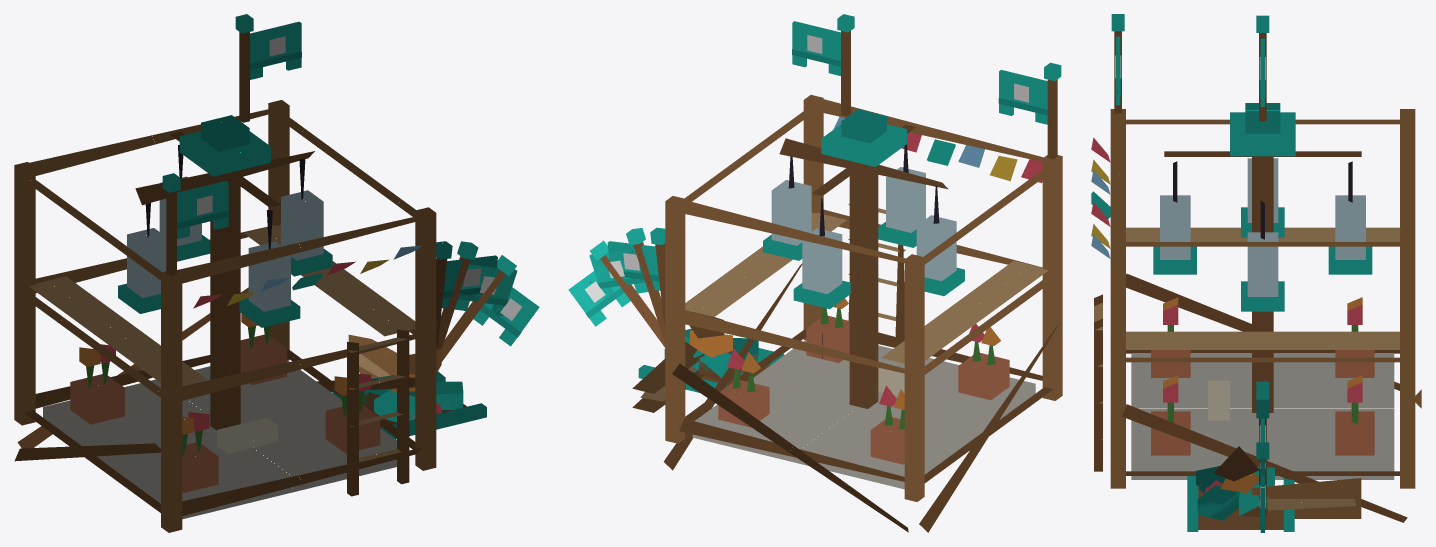
File: hummingbird-producer_lod1.glb
3 views of the same model, side by side, from view 1: azimuth 30°, elevation 25°; view 2: azimuth 150°, elevation 25°; view 3: azimuth 270°, elevation 25° (orthographic). The views are drawn at different scales.
Parts seen in each view (by area): view 1: scaffold-mesh, built-mesh, dismantle-75-mesh, dismantle-50-mesh, dismantle-25-mesh, scaffold-banner, banner, dismantle-25-banner, dismantle-50-banner, dismantle-75-banner, flag-pole, dismantle-25-flag-pole (+3 smaller); view 2: scaffold-mesh, built-mesh, dismantle-75-mesh, dismantle-50-mesh, dismantle-25-mesh, scaffold-banner, banner, dismantle-25-banner, dismantle-75-banner, dismantle-25-flag-pole, scaffold-flag-pole, flag-pole (+3 smaller); view 3: scaffold-mesh, built-mesh, dismantle-75-mesh, dismantle-25-mesh, dismantle-50-mesh, flag-pole, scaffold-flag-pole, scaffold-banner, banner.
Part boxes in pixels (box(x1,y1,x2,y2)): scaffold-mesh: box(14, 100, 436, 532); built-mesh: box(43, 115, 380, 503); dismantle-75-mesh: box(127, 197, 445, 518); dismantle-50-mesh: box(86, 326, 486, 518); dismantle-25-mesh: box(91, 349, 484, 519); scaffold-banner: box(177, 180, 228, 238); banner: box(250, 21, 301, 79); dismantle-25-banner: box(473, 287, 539, 346); dismantle-50-banner: box(454, 264, 517, 315); dismantle-75-banner: box(442, 255, 497, 308); flag-pole: box(235, 14, 253, 122); dismantle-25-flag-pole: box(441, 255, 516, 361); scaffold-mesh: box(632, 95, 1062, 532); built-mesh: box(718, 109, 1035, 474); dismantle-75-mesh: box(664, 186, 994, 488); dismantle-50-mesh: box(638, 290, 989, 488); dismantle-25-mesh: box(638, 312, 995, 429); scaffold-banner: box(998, 70, 1047, 124); banner: box(792, 21, 840, 75); dismantle-25-banner: box(568, 264, 630, 326); dismantle-75-banner: box(607, 241, 660, 290); dismantle-25-flag-pole: box(590, 240, 665, 347); scaffold-flag-pole: box(1044, 62, 1061, 159); flag-pole: box(837, 14, 854, 116); scaffold-mesh: box(1091, 109, 1421, 522); built-mesh: box(1151, 103, 1374, 427); dismantle-75-mesh: box(1131, 196, 1394, 516); dismantle-25-mesh: box(1131, 325, 1390, 531); dismantle-50-mesh: box(1131, 306, 1394, 531); flag-pole: box(1256, 15, 1269, 121); scaffold-flag-pole: box(1111, 14, 1124, 113); scaffold-banner: box(1115, 36, 1121, 105); banner: box(1259, 38, 1265, 106).
Bounding box in the file's own units: 2.35 × 2.27 × 1.51.
